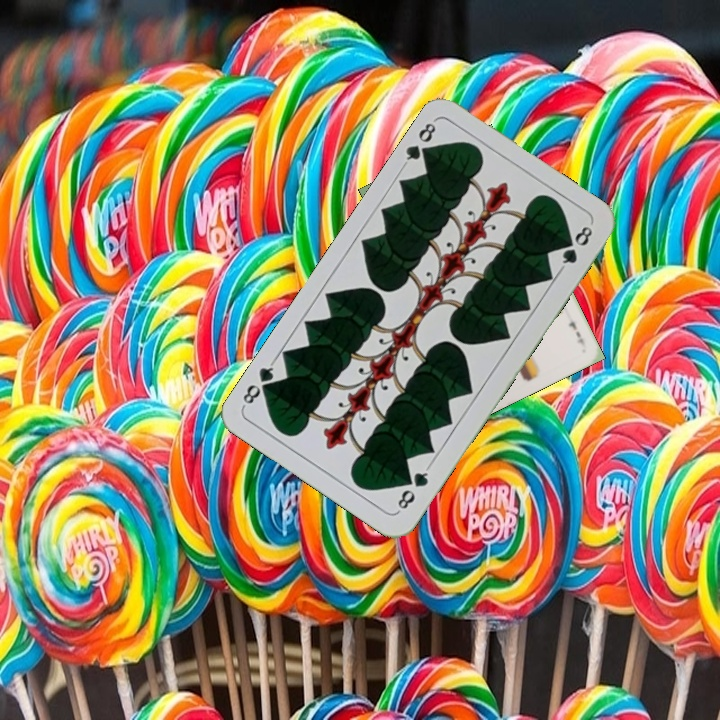E7: (565, 317, 587, 350)
G8: (399, 116, 439, 168), (393, 462, 432, 514)
